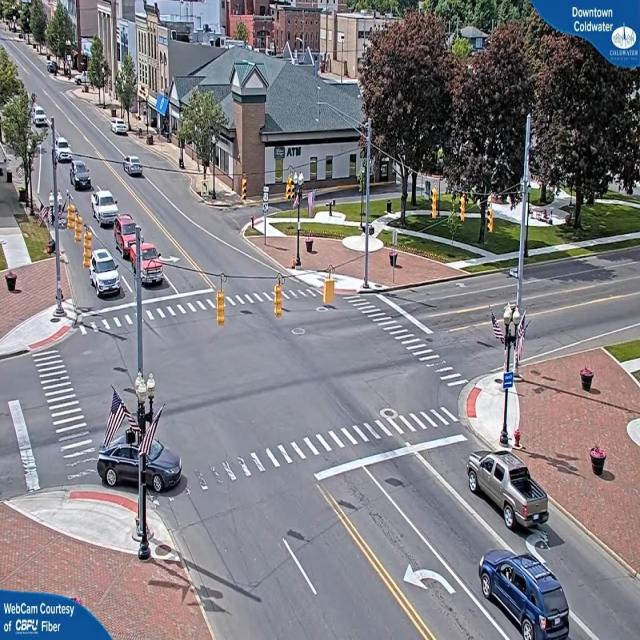car: (479, 549, 572, 640), (464, 451, 551, 534), (98, 438, 185, 494), (88, 252, 123, 296), (92, 191, 120, 229), (73, 160, 94, 189), (124, 158, 143, 177), (112, 120, 128, 136)
